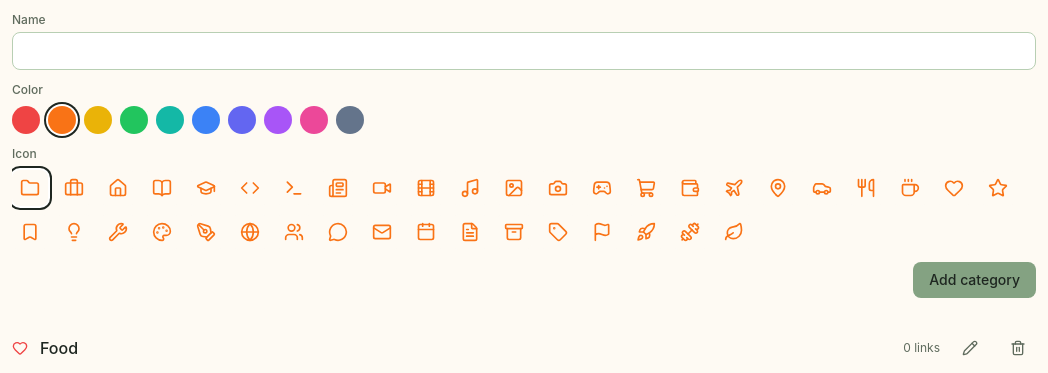
CategoryManager › adds a category with the chosen color and icon, then resets the form
Expected: the radio button named "Orange" is checked, 48,106 -> 76,134
Expected: the radio button named "Folder" is checked, 12,170 -> 48,206
Type "Books" into the field labelled "Name" at (524, 51), box 12,32 -> 1036,70
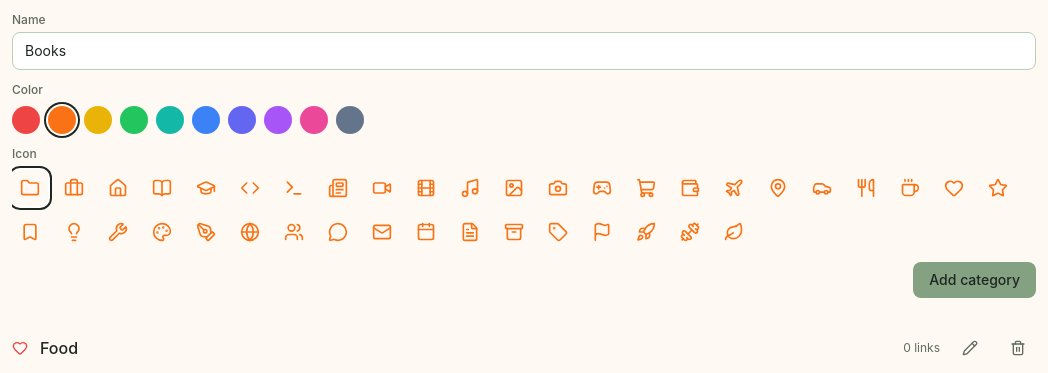
Click the radio button named "Teal" at (170, 120), box 156,106 -> 184,134
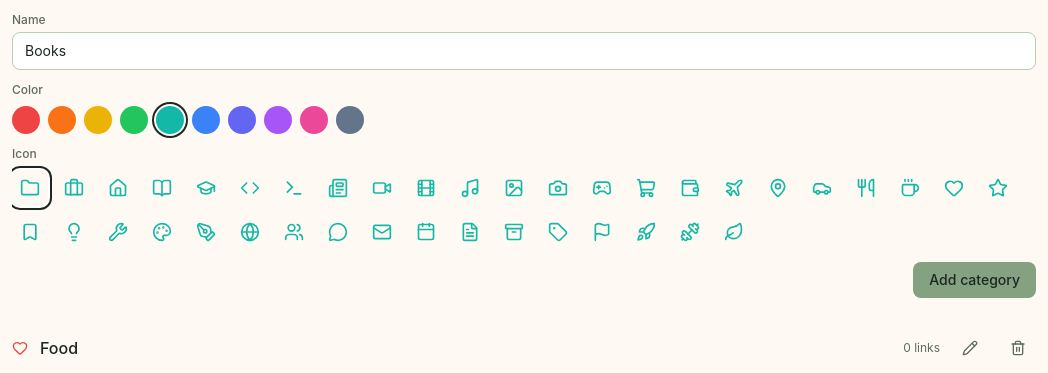
Click the radio button named "Briefcase" at (74, 188), box 56,170 -> 92,206
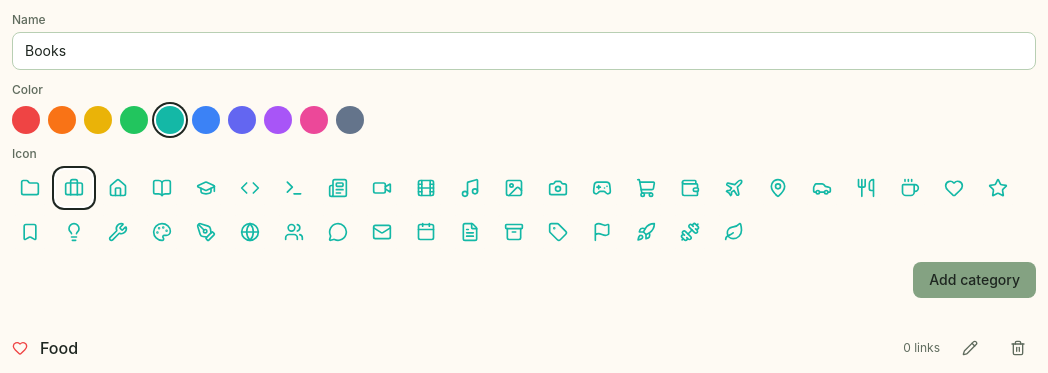
Click the button "Add category" at (975, 280), box 913,262 -> 1036,298
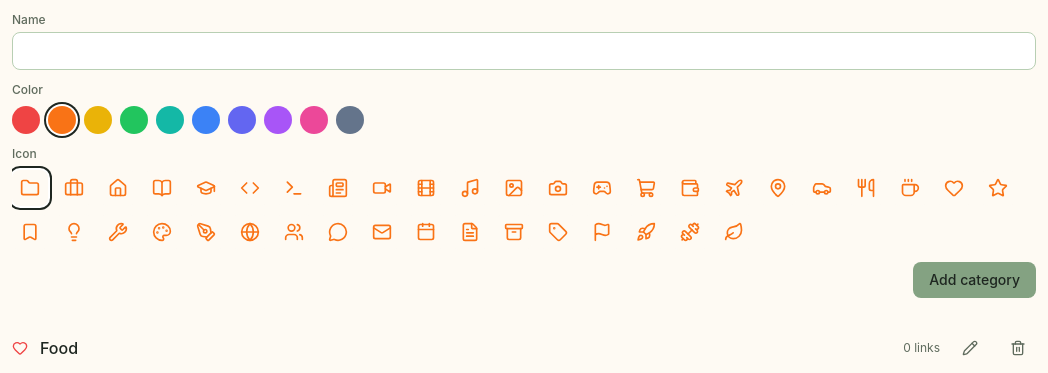
Expected: the radio button named "Orange" is checked, 48,106 -> 76,134
Result: the field labelled "Name" is empty at 12,32 -> 1036,70
Result: the radio button named "Folder" is checked at 12,170 -> 48,206
